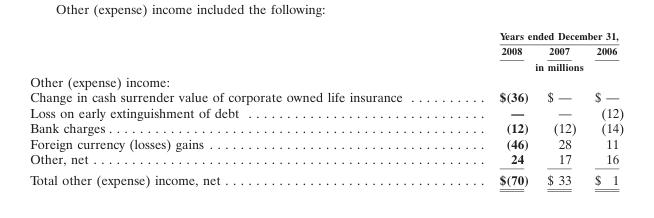table: (29, 29, 623, 187)
table column: (29, 29, 450, 187), (450, 29, 537, 187), (537, 29, 584, 187), (584, 29, 623, 187)
table column header: (29, 29, 623, 72)
table projected row header: (29, 72, 623, 88)
table row: (29, 168, 623, 187), (29, 150, 623, 168), (29, 72, 623, 88), (29, 88, 623, 104), (29, 119, 623, 135), (29, 43, 623, 58), (29, 104, 623, 119), (29, 135, 623, 150), (29, 29, 623, 43), (29, 58, 623, 72)
table spanning cell: (450, 29, 623, 43), (450, 58, 623, 72)
